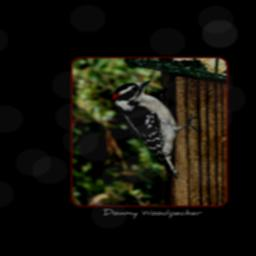Woodpecker: (112, 79, 205, 178)
